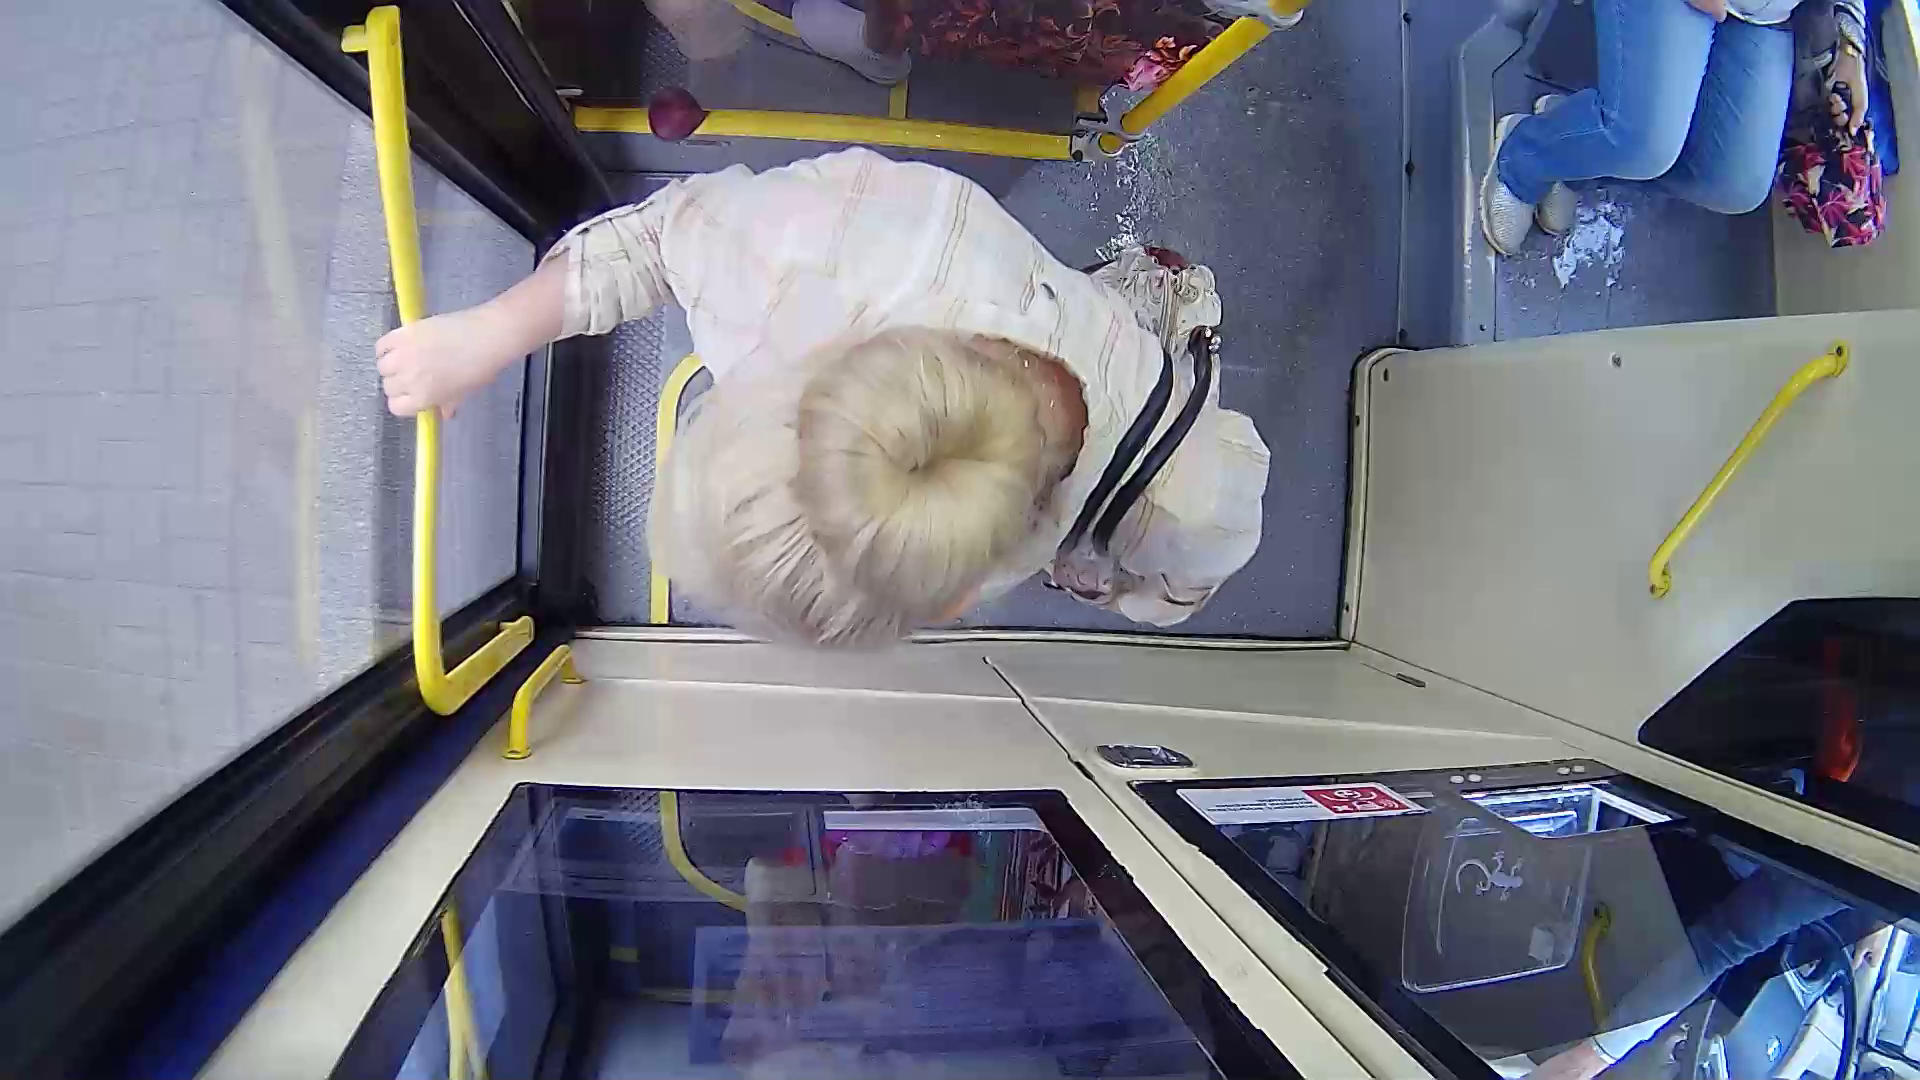person: (388, 160, 1321, 705)
